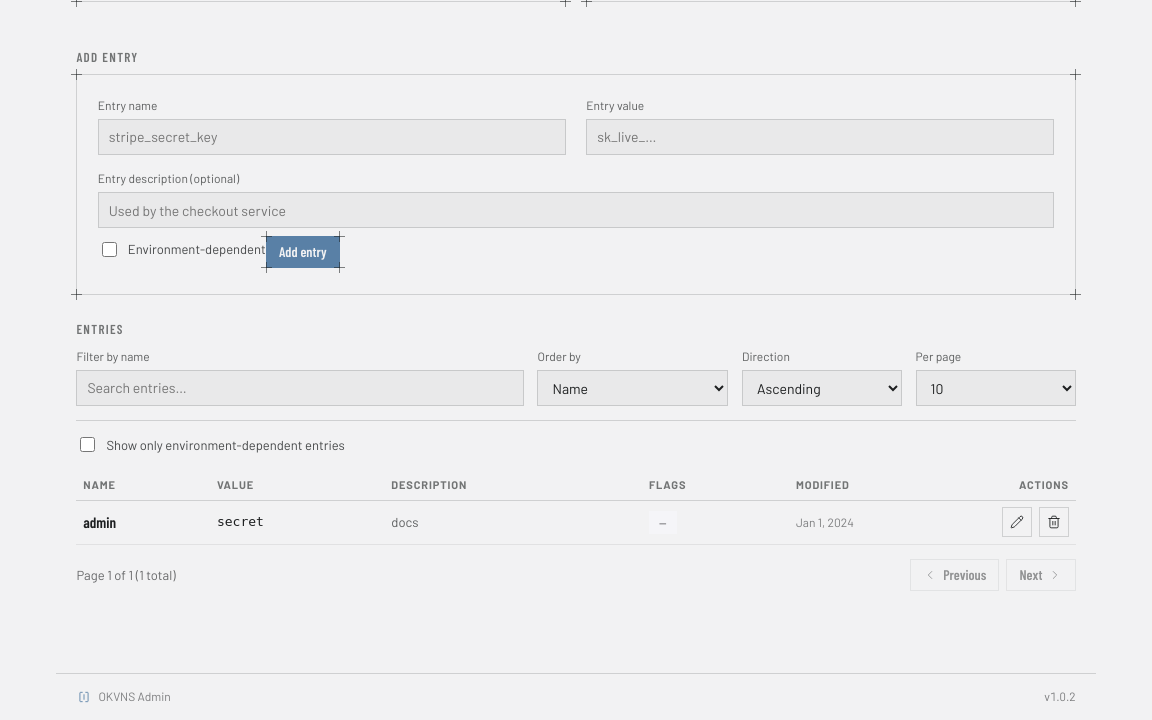
NamespaceDetailPage › clears an entry description with a blank value
(page scrolled)
Expected: the text "docs" is shown, [385,500,642,545]
Click the button named "Edit entry admin" at (1017, 522), box [1002,507,1032,537]
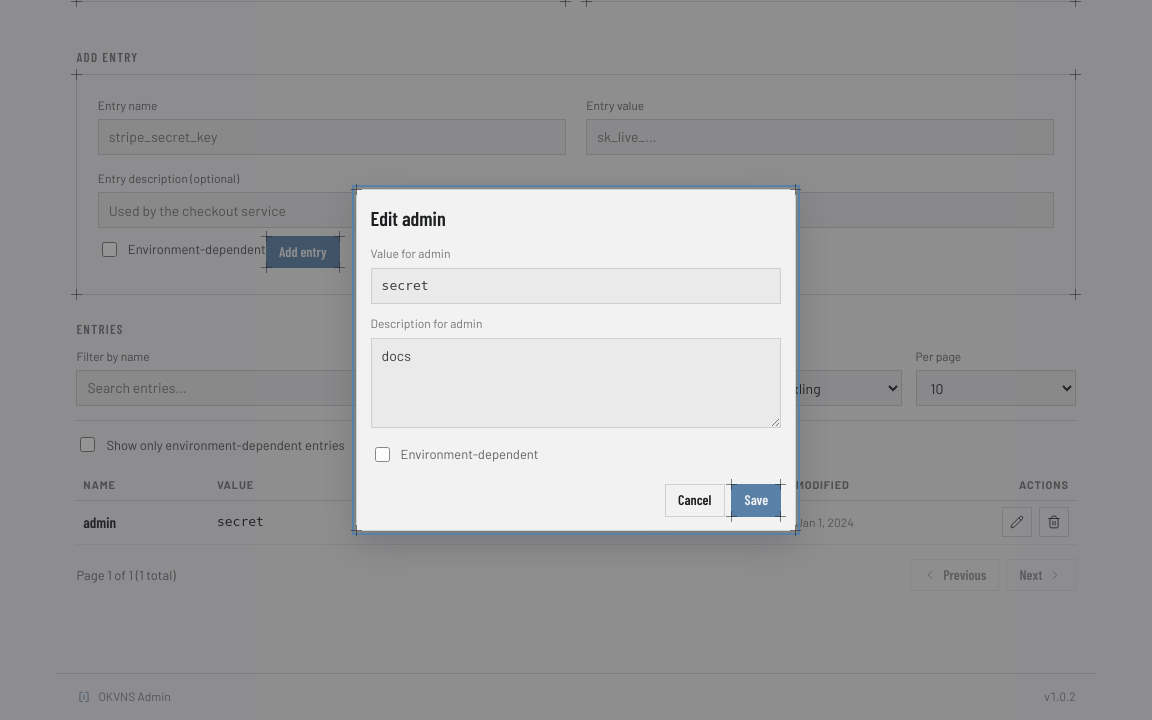
Clear the text box labelled "Description for admin" at (576, 383), box [371,338,781,428]
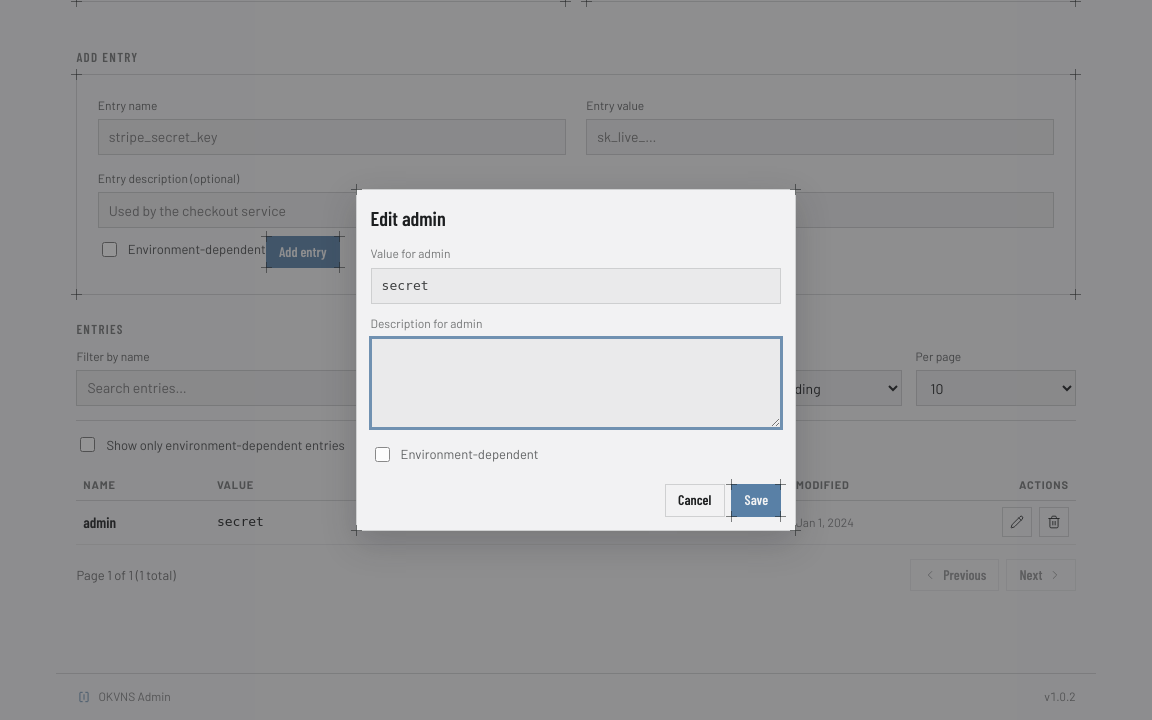
Click the button "Save" at (756, 501), box [731,484,781,517]
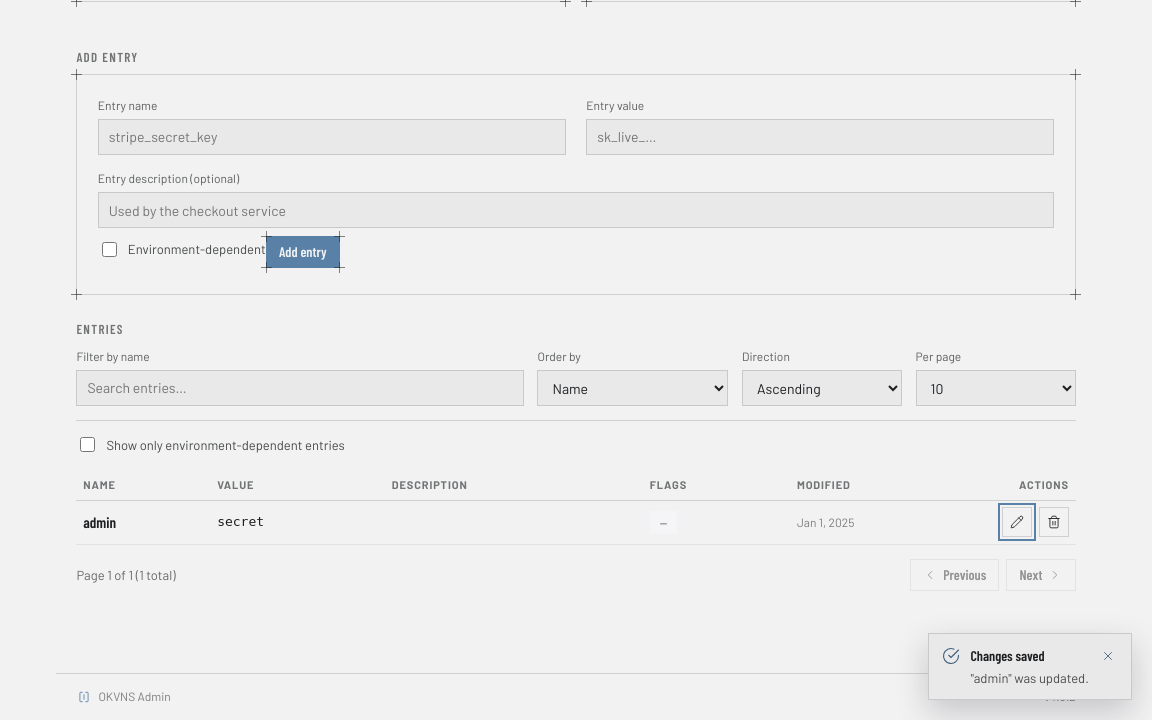
Expected: the text "docs" is gone
